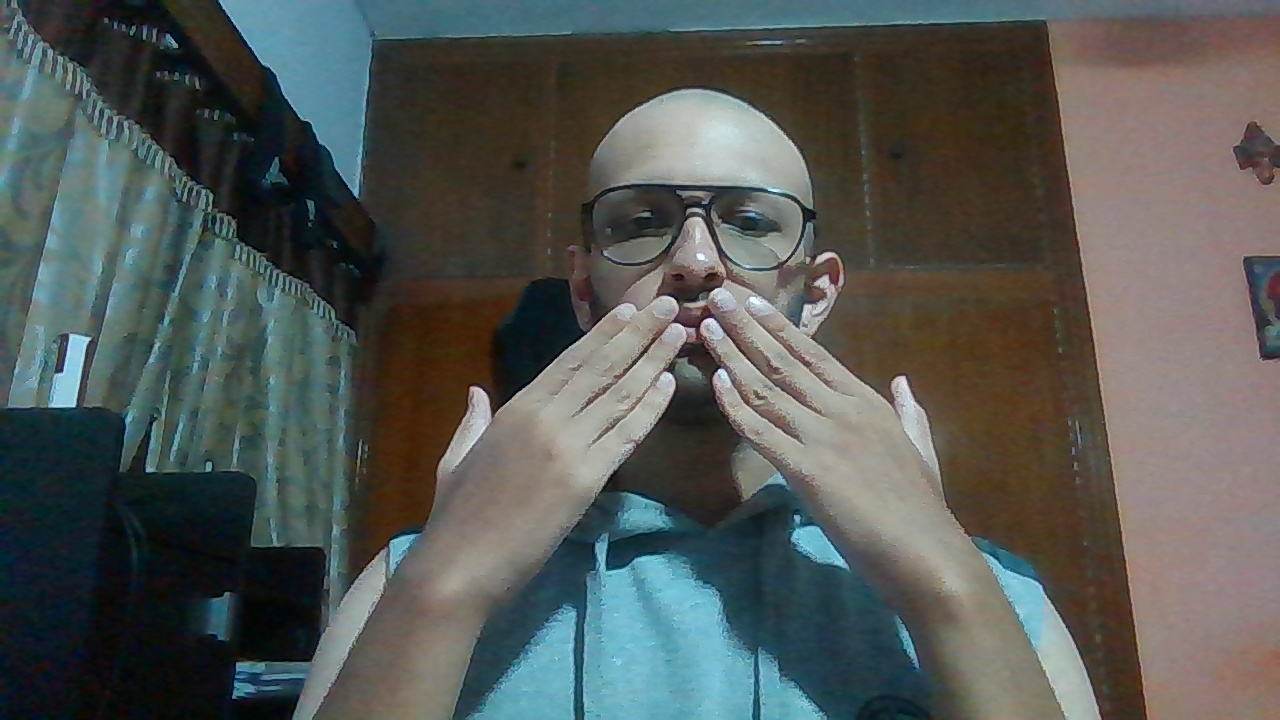Thank You: (435, 287, 956, 595)
